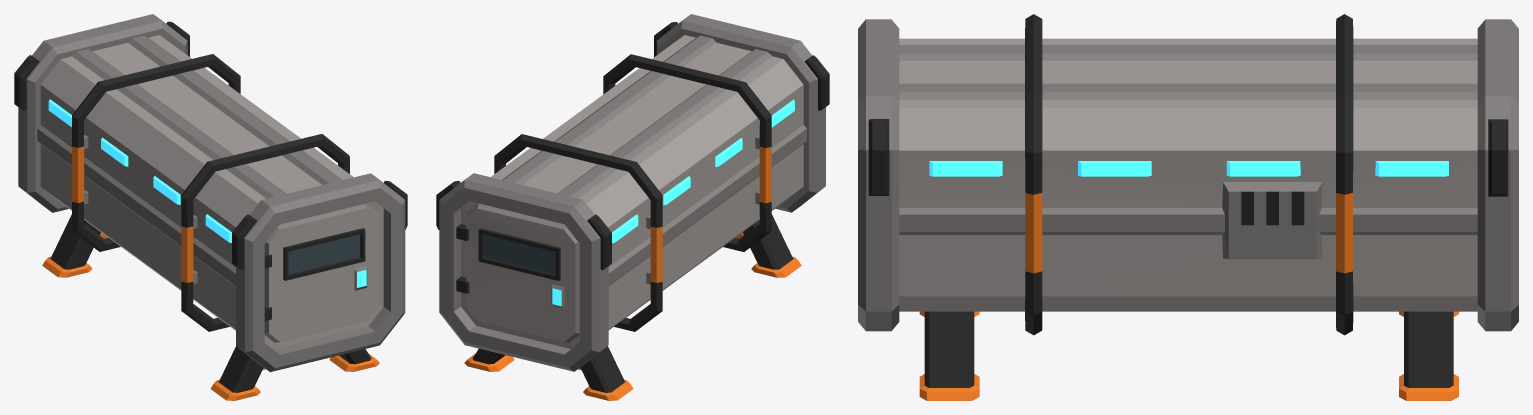
File: scifi_scifi-planet-base-hall.fbx
3 renders of one model, left to right at view 1: azimuth 30°, elevation 25°; view 2: azimuth 150°, elevation 25°; view 3: azimuth 270°, elevation 25°, orthographic. The views are drawn at different scales.
Visible parts, largest first — view 1: scifi_scifi_planet_base_hall; view 2: scifi_scifi_planet_base_hall; view 3: scifi_scifi_planet_base_hall.
Boxes of the visible parts, x1,y1,x2,y2 form: scifi_scifi_planet_base_hall: [14, 14, 407, 400]; scifi_scifi_planet_base_hall: [436, 14, 829, 400]; scifi_scifi_planet_base_hall: [858, 14, 1518, 400].
Bounding box in the file's own units: 85.03 × 98.25 × 200.
